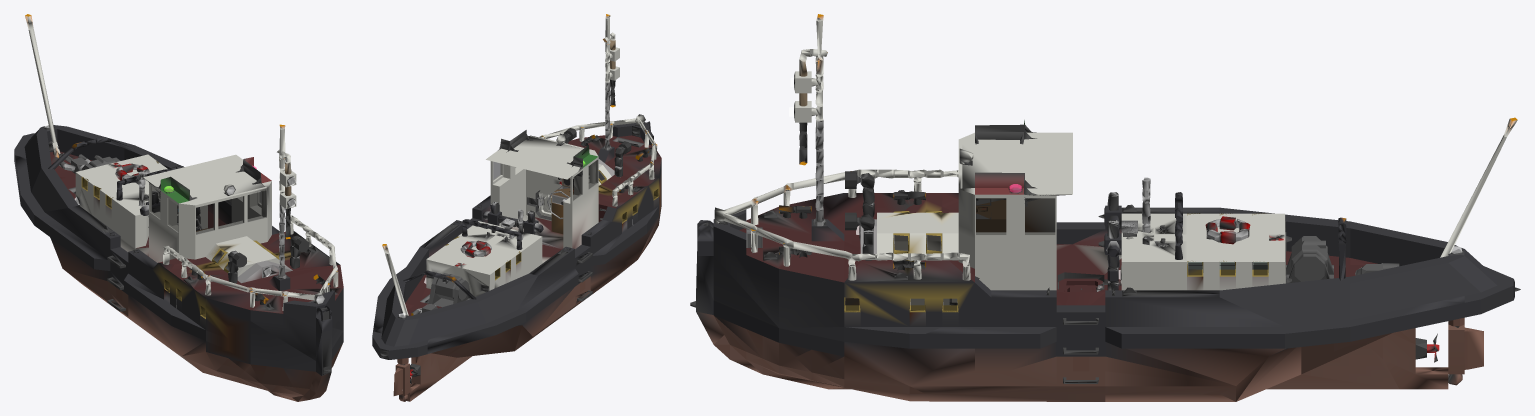
The model's file is tug.glb.
3 views of the same model, side by side, from view 1: azimuth 30°, elevation 25°; view 2: azimuth 150°, elevation 25°; view 3: azimuth 270°, elevation 25° (orthographic). The views are drawn at different scales.
Parts seen in each view (by area): view 1: vehicle; view 2: vehicle; view 3: vehicle.
Part boxes in pixels (box(x1,y1,x2,y2)): vehicle: box(14, 14, 343, 401); vehicle: box(372, 14, 661, 401); vehicle: box(690, 14, 1520, 401).
Size of the model in its own units: 3.6 by 6 by 12.2.
